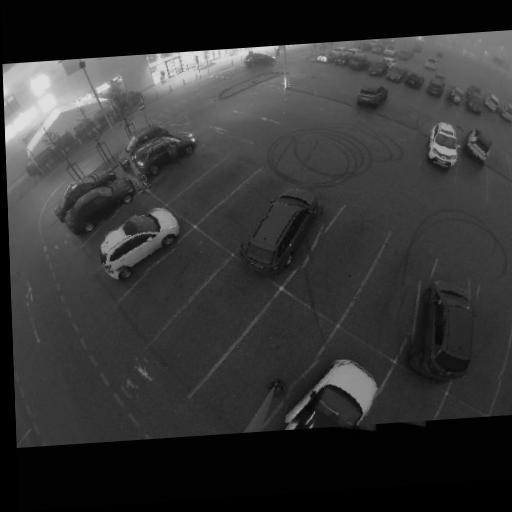busy: (401, 267, 492, 387), (235, 183, 329, 280), (285, 355, 383, 433), (101, 204, 181, 277), (63, 178, 134, 228), (126, 129, 196, 176), (419, 120, 466, 171), (460, 127, 495, 165), (350, 80, 390, 111), (444, 84, 467, 107), (424, 75, 447, 98), (480, 92, 503, 115), (345, 53, 371, 73), (401, 70, 426, 90), (465, 90, 484, 114), (366, 61, 390, 79), (329, 52, 352, 68), (387, 66, 408, 83), (497, 99, 512, 122)
free: (241, 328, 304, 380), (186, 293, 244, 342), (369, 387, 431, 428), (359, 281, 411, 328), (313, 241, 366, 286), (468, 336, 508, 381), (158, 260, 198, 296), (231, 191, 271, 225), (103, 203, 138, 232), (195, 174, 231, 201), (456, 157, 484, 184), (355, 114, 386, 138), (487, 178, 512, 207), (393, 128, 422, 152), (388, 96, 416, 120), (173, 163, 203, 184), (319, 103, 342, 121)
